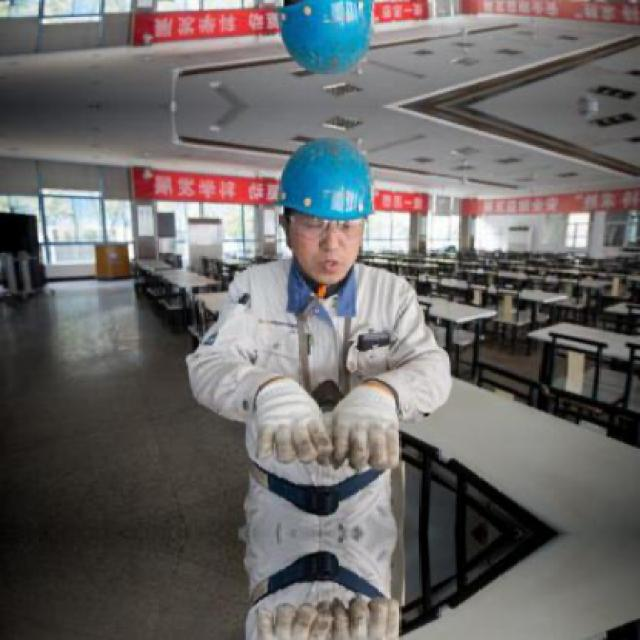helmet: (269, 126, 380, 288), (268, 0, 380, 88)
